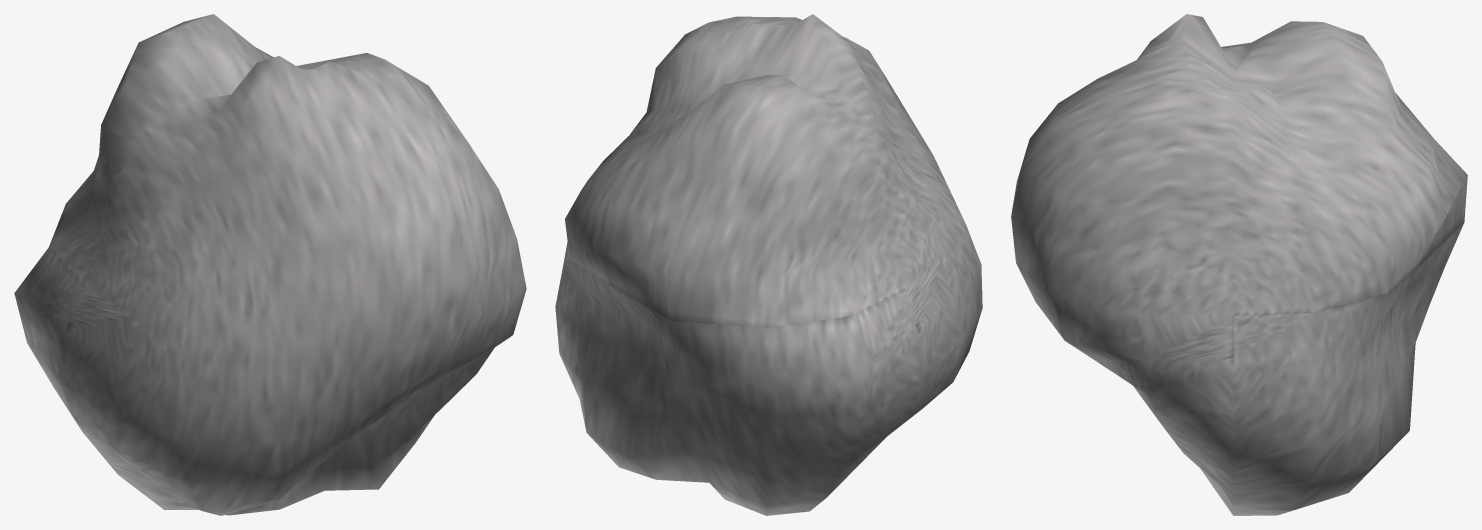
File: asteroid4.fbx
3 renders of one model, left to right at view 1: azimuth 30°, elevation 25°; view 2: azimuth 150°, elevation 25°; view 3: azimuth 270°, elevation 25°, orthographic. The views are drawn at different scales.
Visible parts, largest first — view 1: meteor4; view 2: meteor4; view 3: meteor4.
Part boxes in pixels (box(x1,y1,x2,y2)): meteor4: box(14, 14, 526, 515); meteor4: box(555, 14, 982, 515); meteor4: box(1011, 14, 1467, 515).
Size of the model in its own units: 4.37 by 5.03 by 4.64.
1 material, 1 textured.
